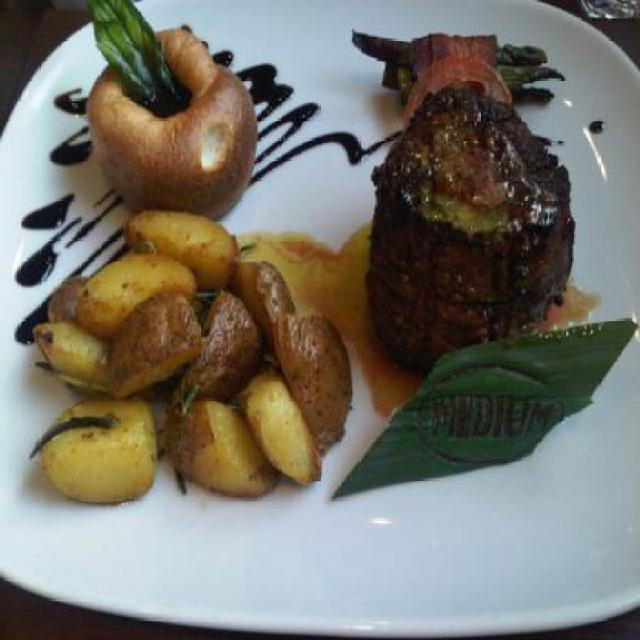Potato: (13, 217, 356, 517)
Steak: (358, 23, 602, 331)
